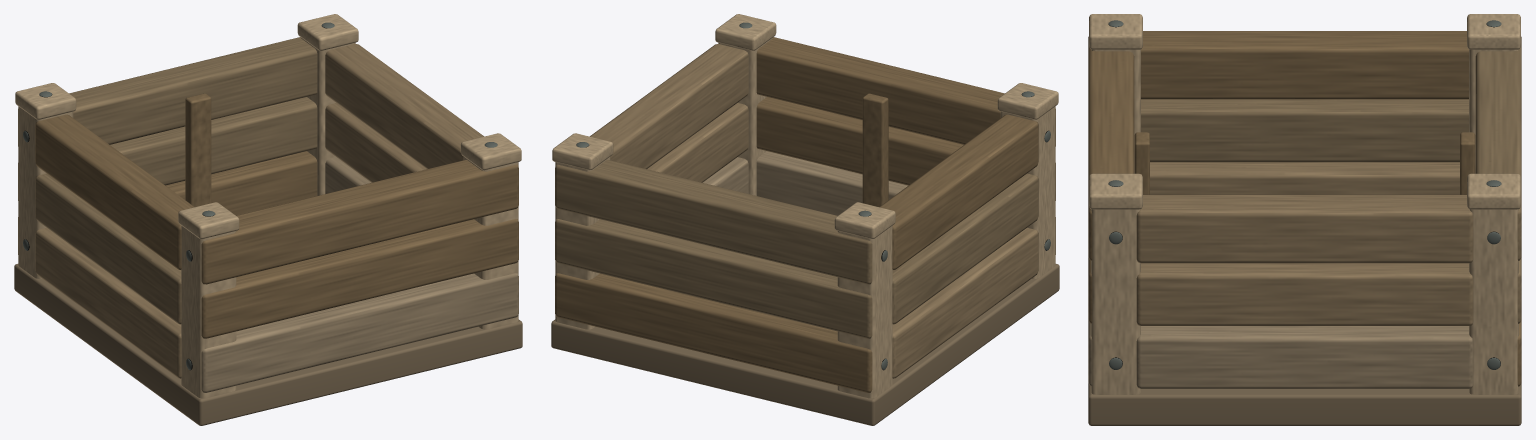
Rendered from wall-master.glb.
3 renders of one model, left to right at view 1: azimuth 30°, elevation 25°; view 2: azimuth 150°, elevation 25°; view 3: azimuth 270°, elevation 25°, orthographic. The views are drawn at different scales.
Parts seen in each view (by area): view 1: Pallet wall / one cell; view 2: Pallet wall / one cell; view 3: Pallet wall / one cell.
Part boxes in pixels (box(x1,y1,x2,y2)): Pallet wall / one cell: box(14, 14, 522, 425); Pallet wall / one cell: box(551, 14, 1059, 425); Pallet wall / one cell: box(1088, 14, 1521, 425).
Size of the model in its own units: 1 by 0.595 by 1.
Materials: 13 (13 with a texture image).
